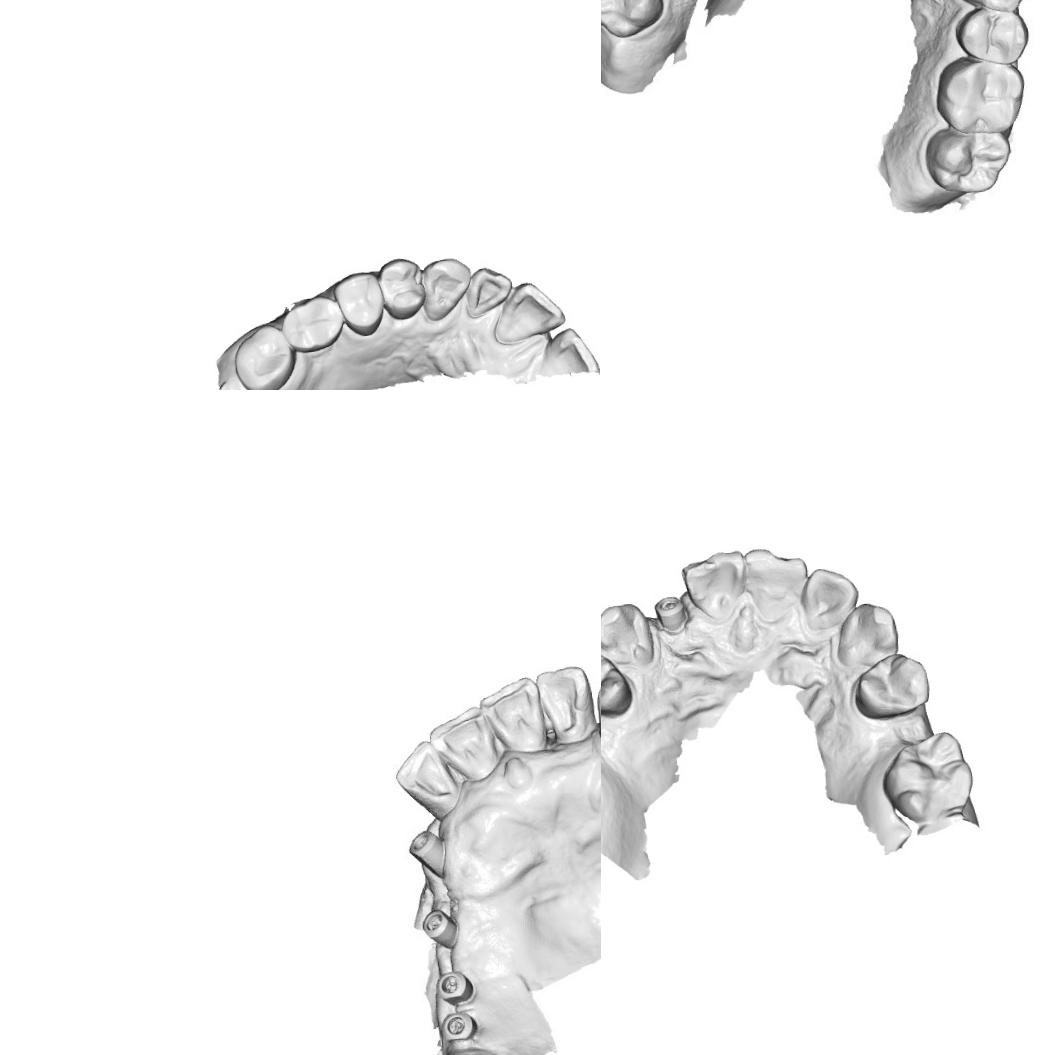canine: (832, 600, 903, 670), (601, 599, 653, 668), (420, 256, 472, 322)
implant: (407, 828, 447, 868), (651, 591, 688, 633), (435, 968, 473, 1003), (423, 909, 457, 948), (440, 1010, 478, 1043)
incisor: (741, 543, 812, 625), (678, 546, 751, 622), (490, 278, 567, 346), (482, 678, 551, 753), (430, 710, 500, 778), (396, 741, 454, 812), (799, 564, 860, 630), (538, 666, 590, 740), (534, 324, 600, 378), (463, 265, 514, 320)
molar: (876, 728, 979, 828), (939, 59, 1028, 135), (924, 124, 1012, 196), (230, 322, 298, 390), (278, 293, 346, 354), (601, 0, 661, 42)
premolar: (850, 652, 933, 722), (330, 268, 386, 338), (963, 6, 1025, 68), (374, 256, 426, 322), (601, 645, 636, 720)
